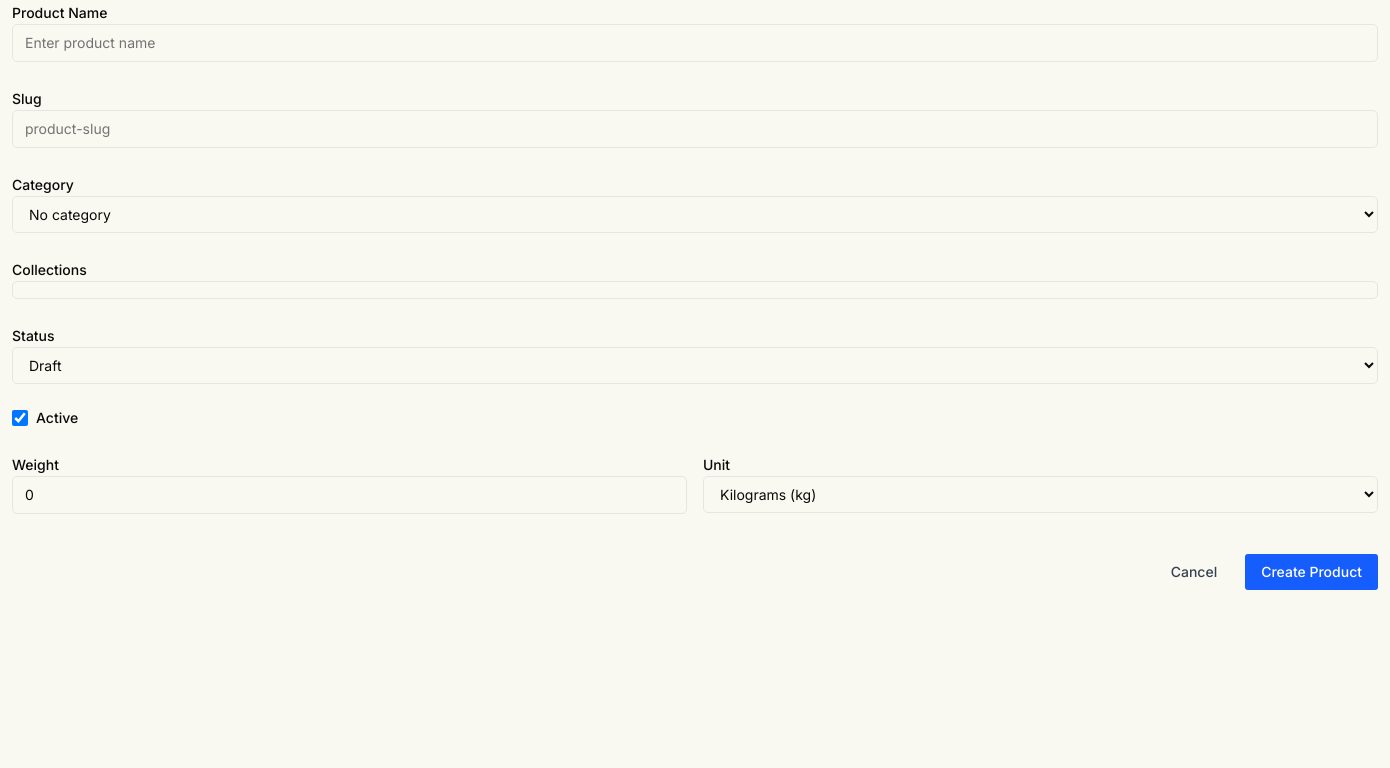
Test: ProductForm › shows saving state when submitting
Type "New Product" into the field with placeholder "Enter product name" at (695, 43), box [12,24,1378,62]
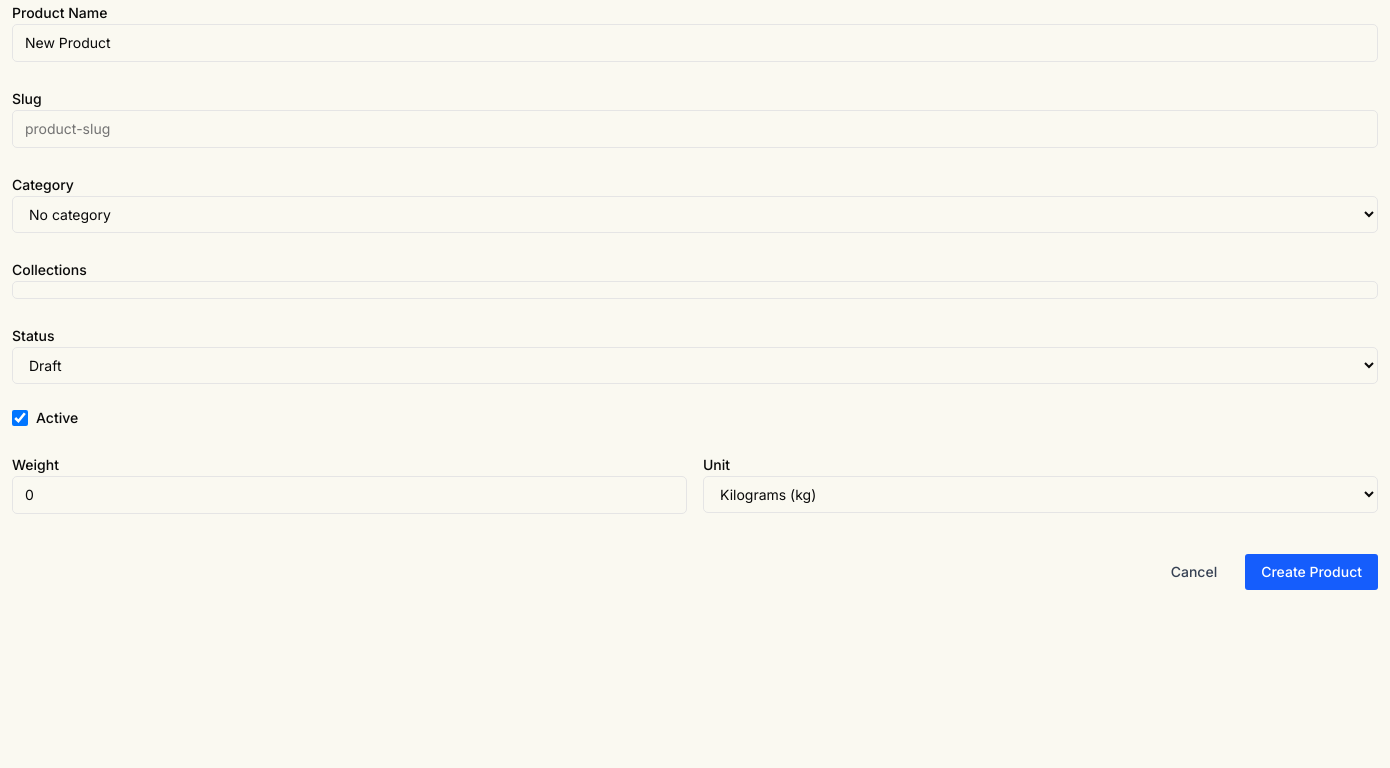
Type "new-product" into the field with placeholder "product-slug" at (695, 129), box [12,110,1378,148]
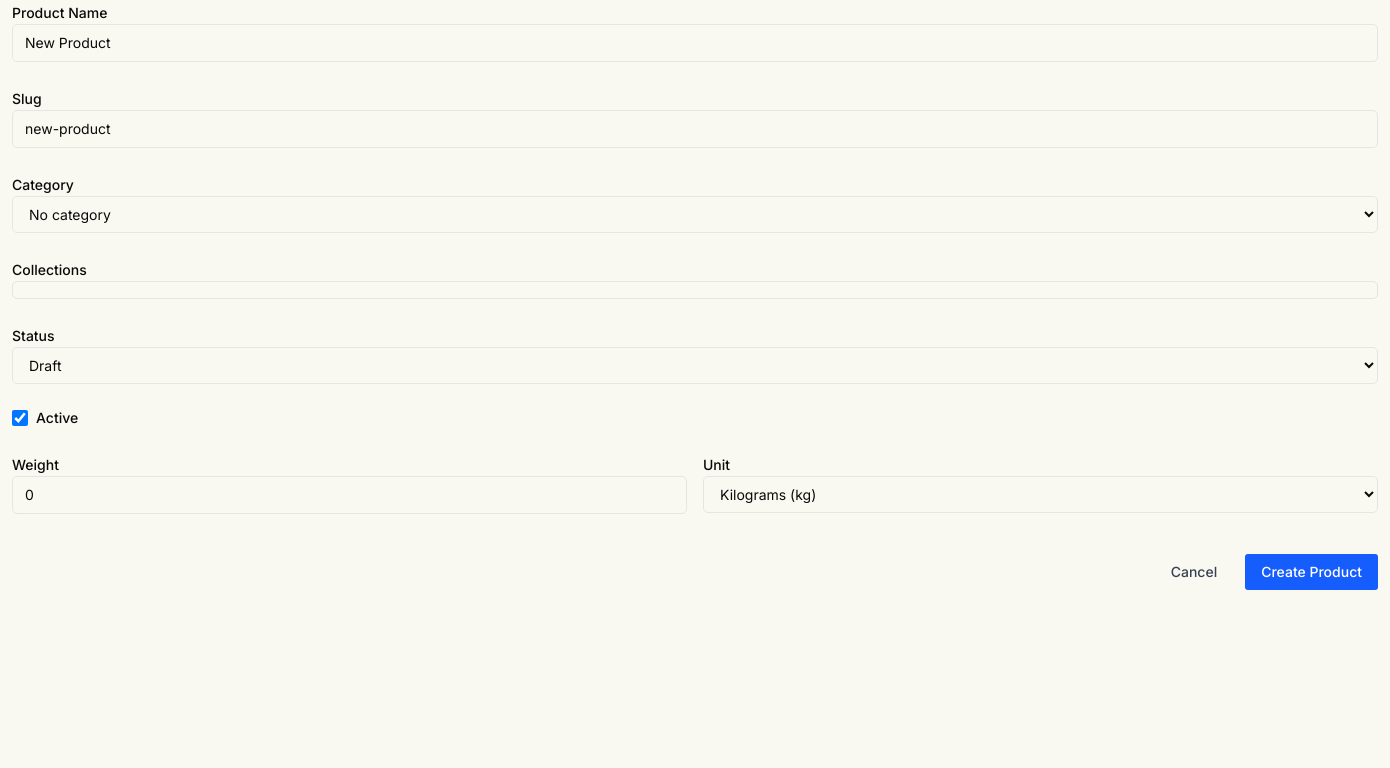
Click the button "Create Product" at (1312, 572), box [1245,554,1378,590]
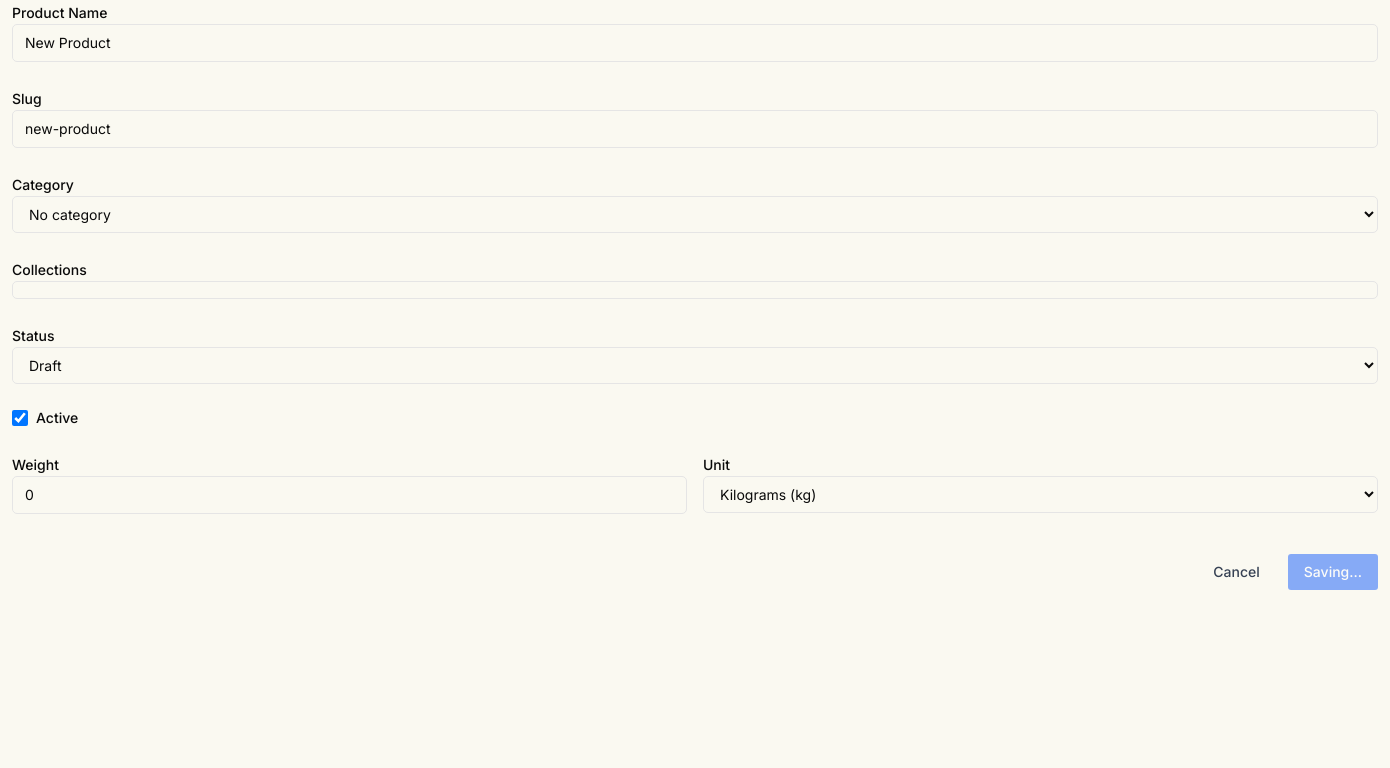
Result: the button "Saving..." is shown at [1288,554,1378,590]
